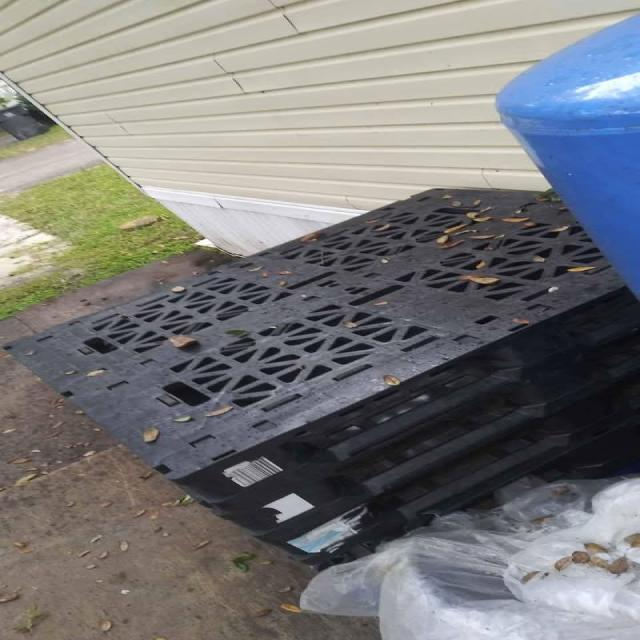igps: (0, 188, 640, 507), (209, 328, 640, 537), (208, 360, 640, 533), (266, 416, 640, 558)
